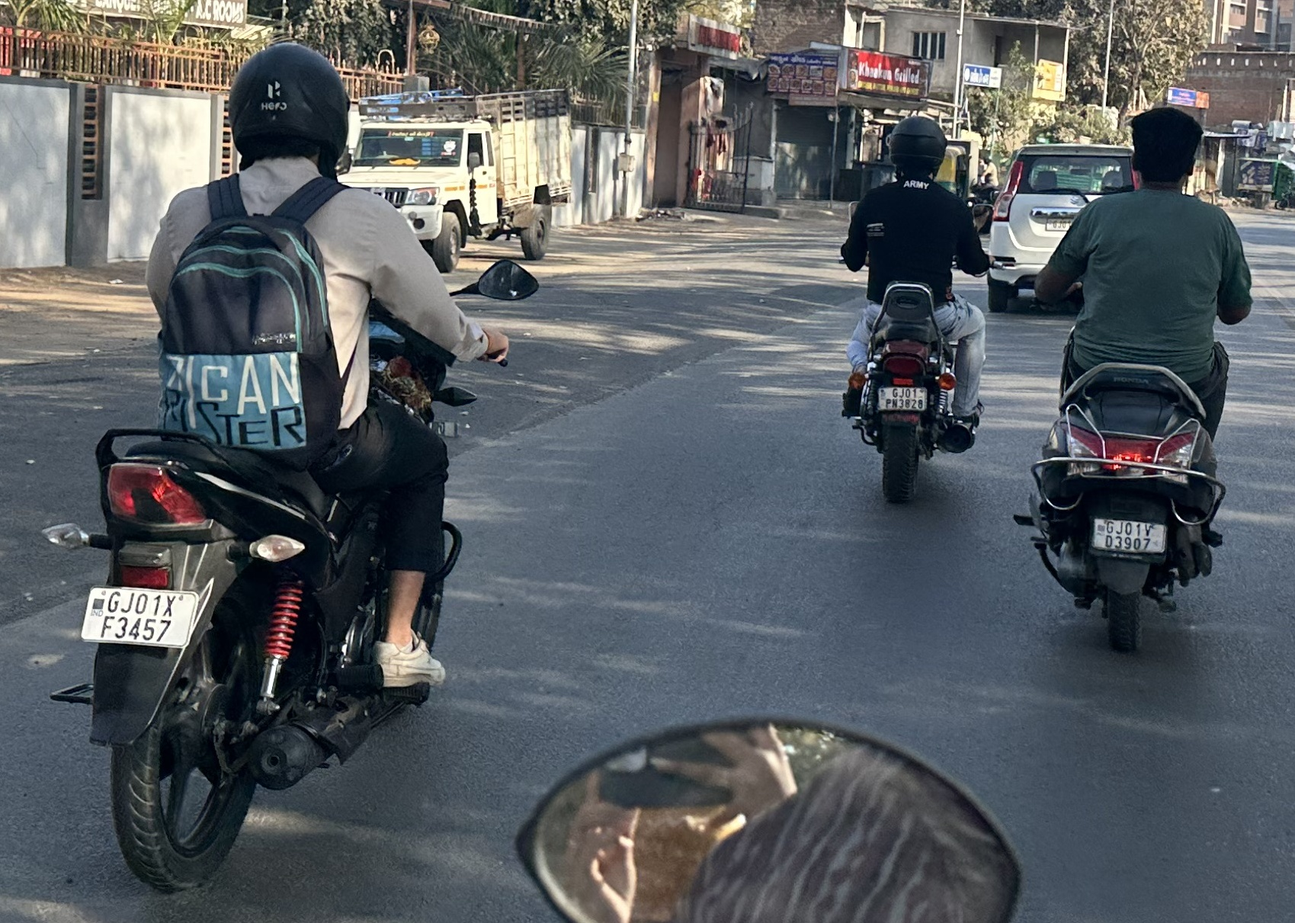BikeWithRider: (32, 33, 547, 905), (1004, 95, 1261, 663), (829, 105, 1001, 511)
Helmet: (213, 33, 361, 187), (876, 107, 957, 186)
NoHelmet: (1116, 99, 1214, 200)
